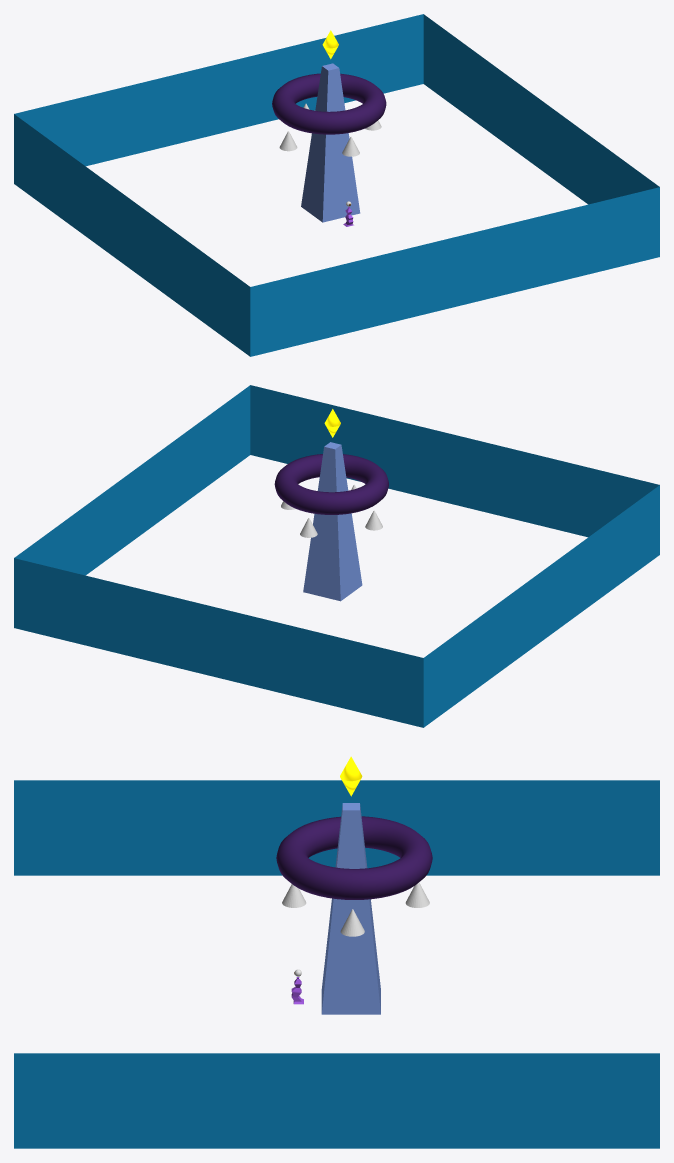
File: sdfghjk.fbx
3 renders of one model, top to bottom at view 1: azimuth 30°, elevation 25°; view 2: azimuth 150°, elevation 25°; view 3: azimuth 270°, elevation 25°, orthographic. The views are drawn at different scales.
Parts seen in each view (by area): view 1: Cube, Cube.002; view 2: Cube, Cube.002; view 3: Cube, Cube.002.
Boxes of the visible parts, x1=… form: Cube: x1=14, y1=14, x2=659, y2=356; Cube.002: x1=272, y1=30, x2=386, y2=222; Cube: x1=14, y1=385, x2=659, y2=727; Cube.002: x1=274, y1=409, x2=388, y2=601; Cube: x1=14, y1=780, x2=659, y2=1148; Cube.002: x1=276, y1=756, x2=432, y2=1014.
Size of what is drawn, in the model's own units: 1606 by 701 by 1606.
